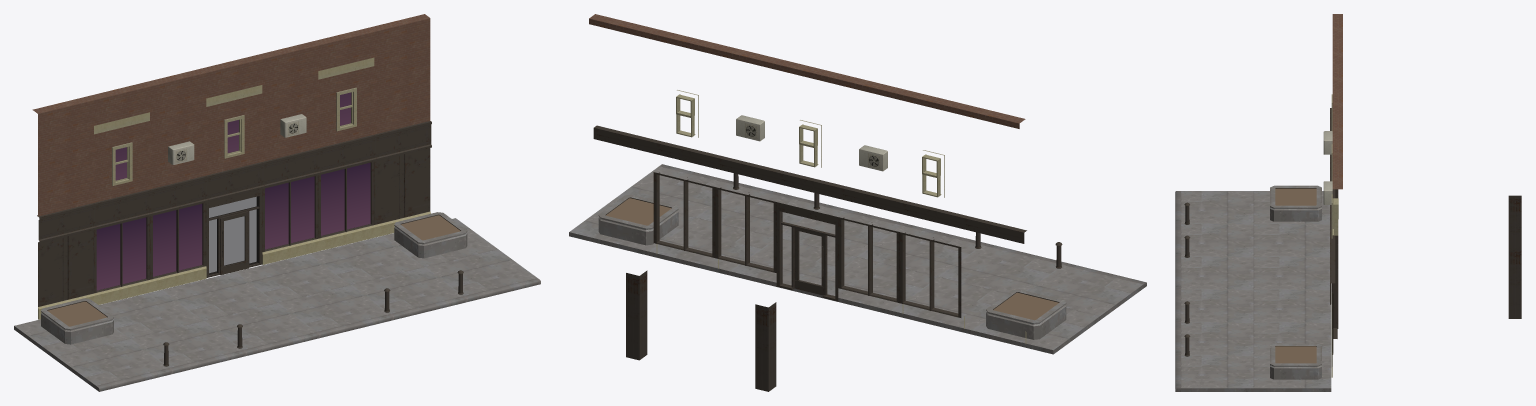
The model's file is storefront.glb.
The picture shows the model from 3 angles, left to right: view 1: azimuth 30°, elevation 25°; view 2: azimuth 150°, elevation 25°; view 3: azimuth 270°, elevation 25°; orthographic projection. The views are drawn at different scales.
Visible parts, largest first — view 1: facade, pavement, props, door; view 2: pavement, facade, props, pillars, door; view 3: pavement, props, facade, pillars.
Boxes of the visible parts, <box> form: facade: <box>32,14,431,319</box>; pavement: <box>14,218,540,391</box>; props: <box>41,212,467,366</box>; door: <box>220,211,248,274</box>; pavement: <box>569,164,1146,354</box>; facade: <box>589,14,1026,343</box>; props: <box>598,173,1066,339</box>; pillars: <box>626,270,776,391</box>; door: <box>794,228,823,295</box>; pavement: <box>1175,191,1331,391</box>; props: <box>1184,185,1321,379</box>; facade: <box>1323,14,1342,377</box>; pillars: <box>1508,195,1521,318</box>.
Bounding box in the file's own units: 18 × 8.15 × 13.34.
6 materials, 4 textured.
